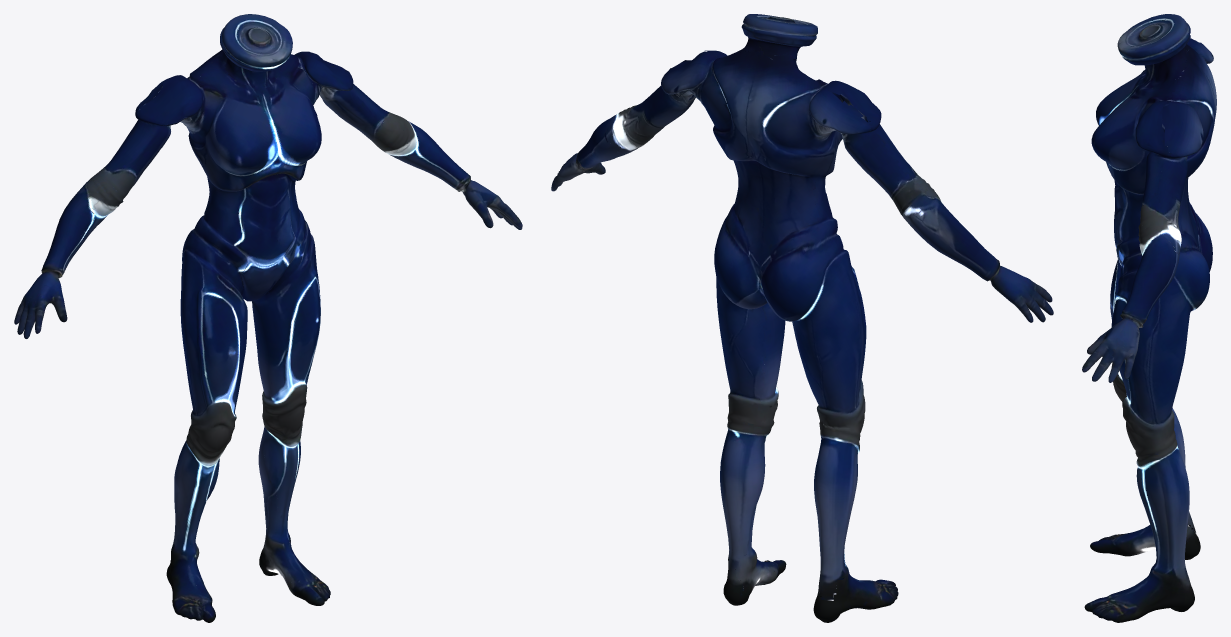
The model's file is robot.fbx.
3 views of the same model, side by side, from view 1: azimuth 30°, elevation 25°; view 2: azimuth 150°, elevation 25°; view 3: azimuth 270°, elevation 25° (orthographic). The views are drawn at different scales.
Visible parts, largest first — view 1: model; view 2: model; view 3: model.
Part boxes in pixels (x1,y1,x2,y2): model: (14,14,522,622); model: (551,14,1053,622); model: (1082,14,1216,622).
Bounding box in the file's own units: 1.49 × 1.67 × 0.3551.
Materials: 1 (1 with a texture image).
